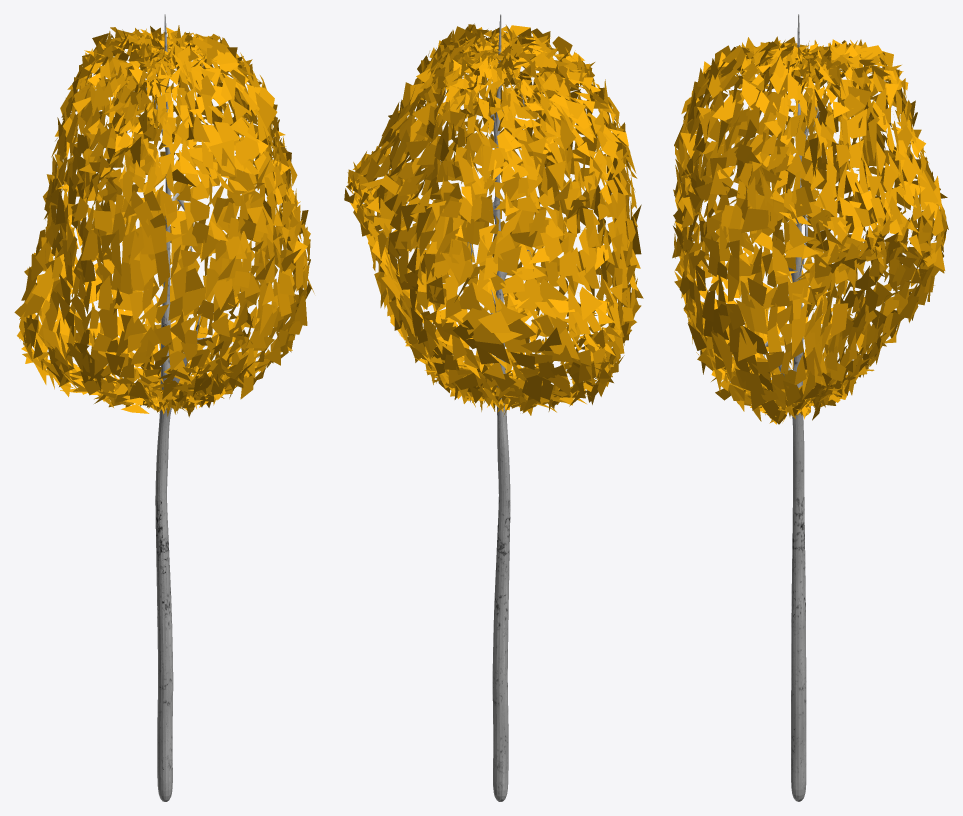
File: Leaves53.fbx
The picture shows the model from 3 angles, left to right: view 1: azimuth 30°, elevation 25°; view 2: azimuth 150°, elevation 25°; view 3: azimuth 270°, elevation 25°; orthographic projection.
Visible parts, largest first — view 1: Leaves53; view 2: Leaves53; view 3: Leaves53.
Boxes of the visible parts, <box> form: Leaves53: <box>14,14,314,801</box>; Leaves53: <box>344,14,643,801</box>; Leaves53: <box>672,14,948,801</box>.
Bounding box in the file's own units: 903 × 2574 × 820.
2 materials, 1 textured.
